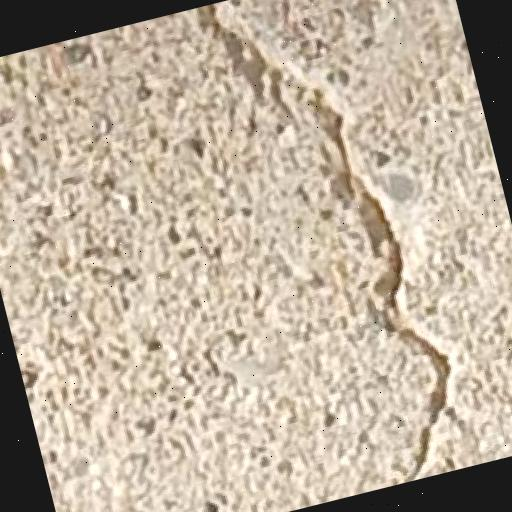spalling: (189, 4, 486, 472)
